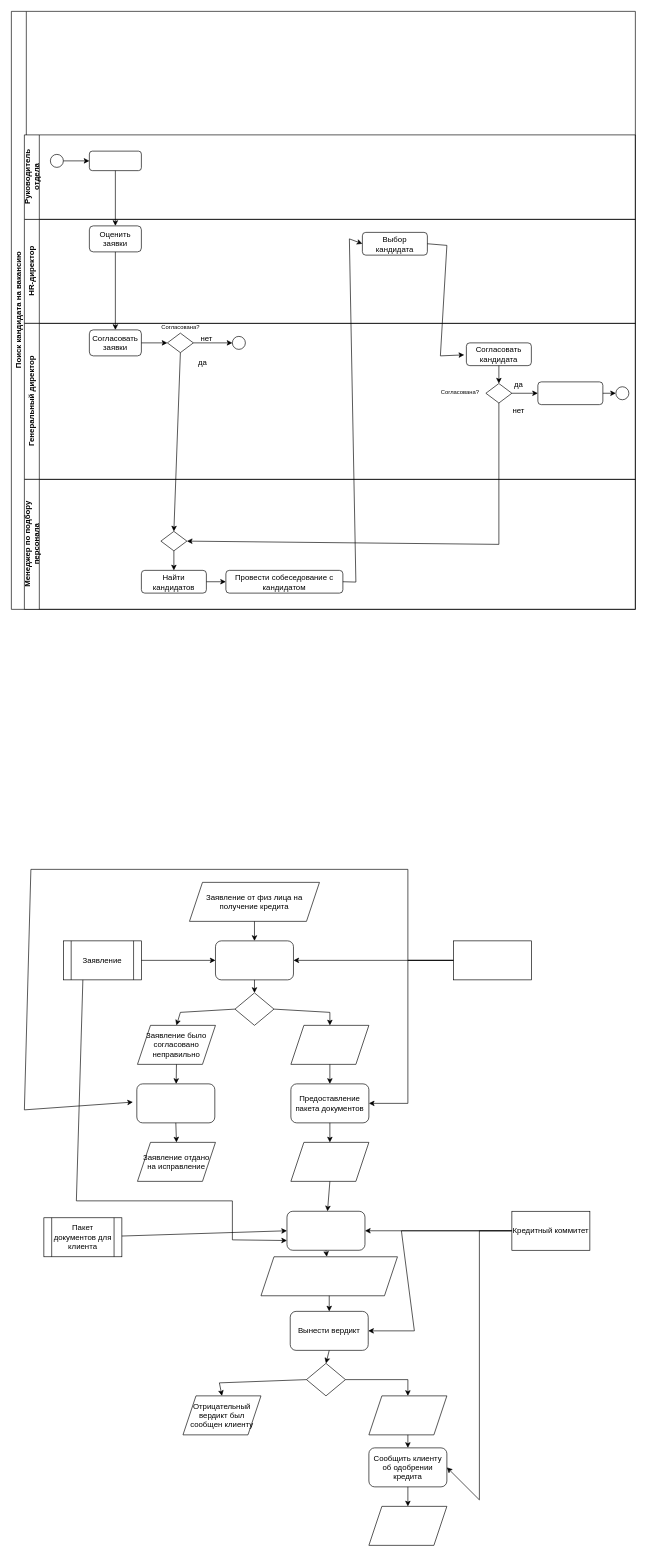
The diagram is 647 pixels wide and 1557 high, and some of its shapes have lost their labels. Each missing label, with the centre of its shape:
Был вынесен положительный вердикт: point (407, 1415)
Заявление было принято: point (329, 1044)
Клиент-менеджер: point (492, 960)
Кредитный договор был заключен с клиентом: point (407, 1525)
Кредитоспособность клиента проанализирована: point (328, 1276)
Отдать клиенту на согласование: point (175, 1103)
полученная информация о клиенте было собрана: point (329, 1161)
Рассмотреть заявки на получение кредита: point (325, 1230)
Рассмотреть заявление на получение кредита: point (254, 960)
Создать заявки на поиск персонал: point (115, 160)
Утвердить на должность: point (570, 393)
